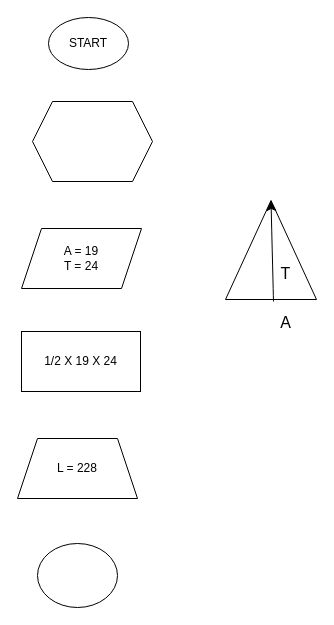
This 334x625 diagram has some shape labels left out. Here are the shapes that lost their labels. From the top down, the box of each, then its label:
(32, 100, 152, 182): 1/2 X A X T
(36, 542, 118, 608): END
